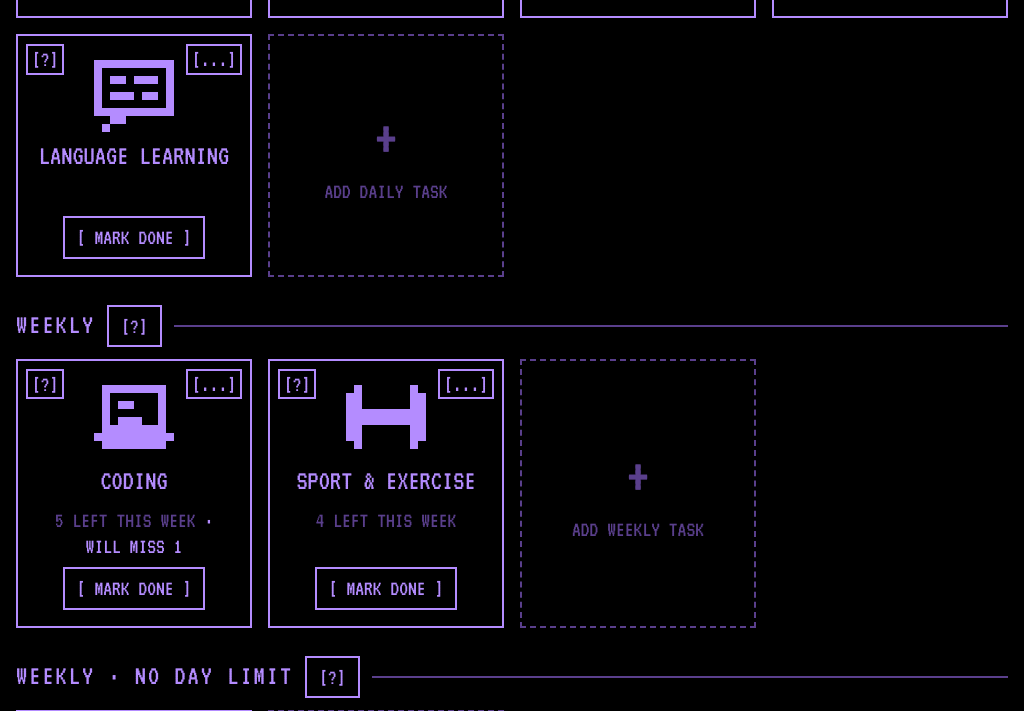
Test: App › shows a task description from the card [?] and returns focus
The width and height of the screenshot is (1024, 711).
(page scrolled)
Click the button named "About Sport & Exercise".
click(297, 384)  # box [278,369,316,399]
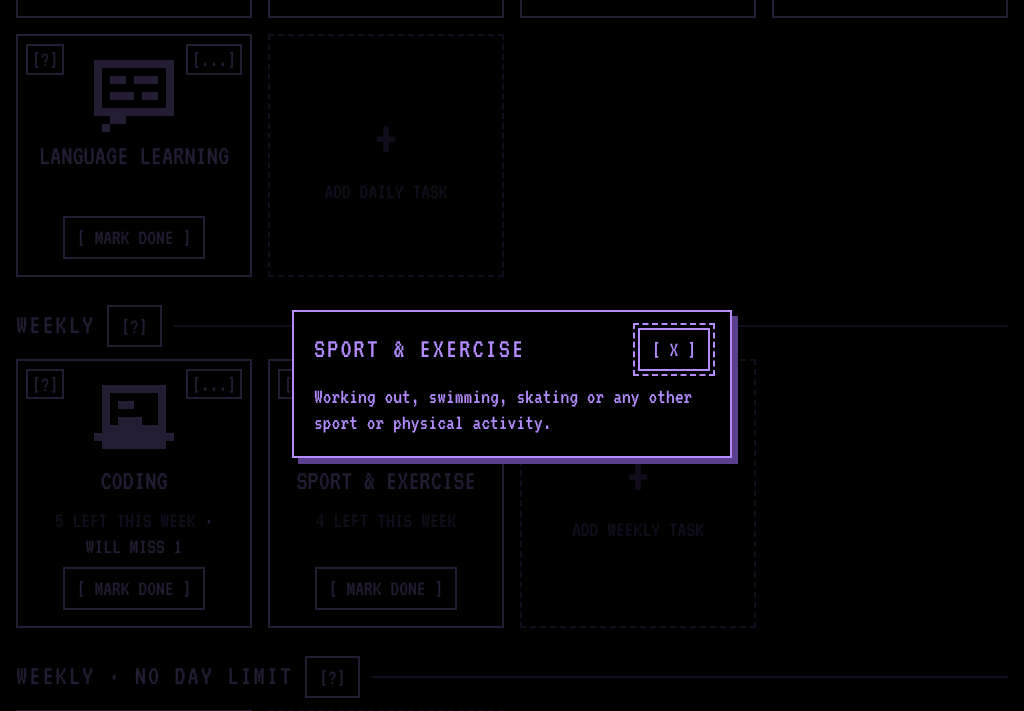
Expected: the text "swimming, skating" is shown, [314,385,692,433]
Press Escape
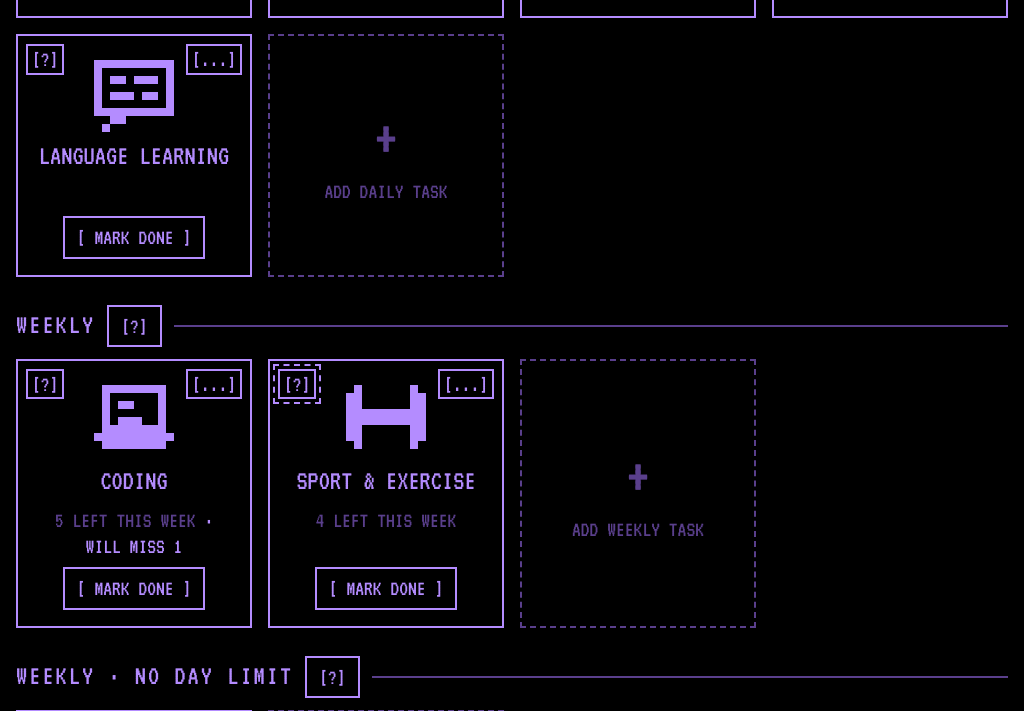
Expected: the dialog is gone
